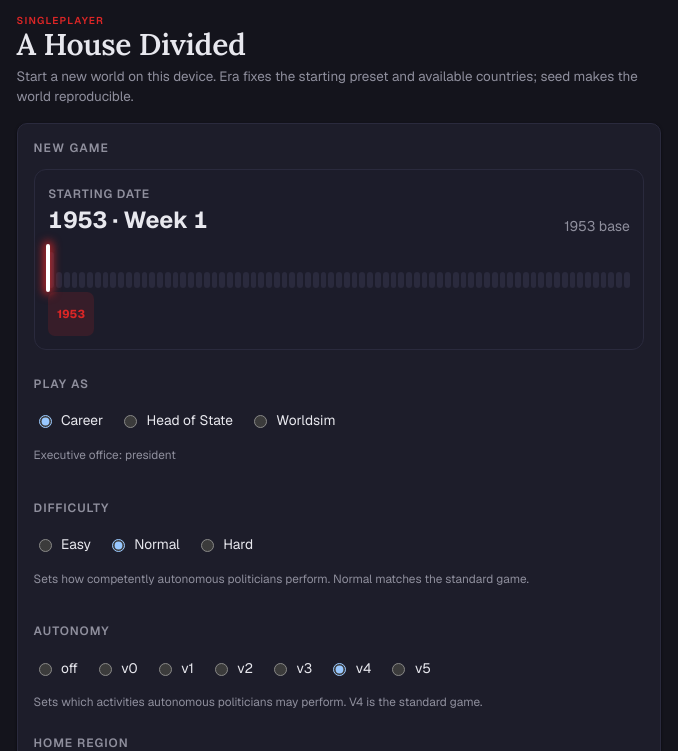
Scenario: NewGameScreen HoS seating-path notice › names the presidential seating path for a US HoS start
Click the radio button labelled "Head of State". click: coordinates (131, 422)
box: 124,415 -> 137,428
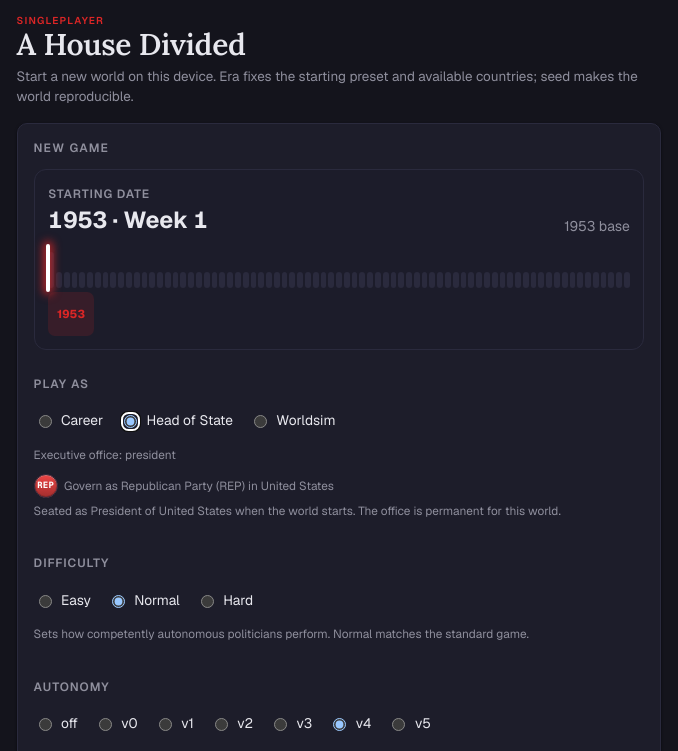
Expected: the text "Govern as Republican Party (REP) in United States" is shown, 64,478 -> 334,494
Expected: the text "permanent for this world" is shown, 34,503 -> 561,518
